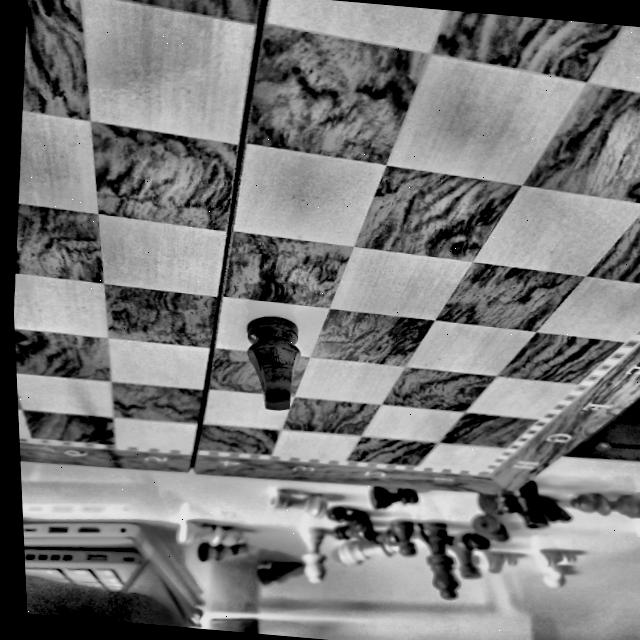black-knight: (231, 309, 314, 416)
